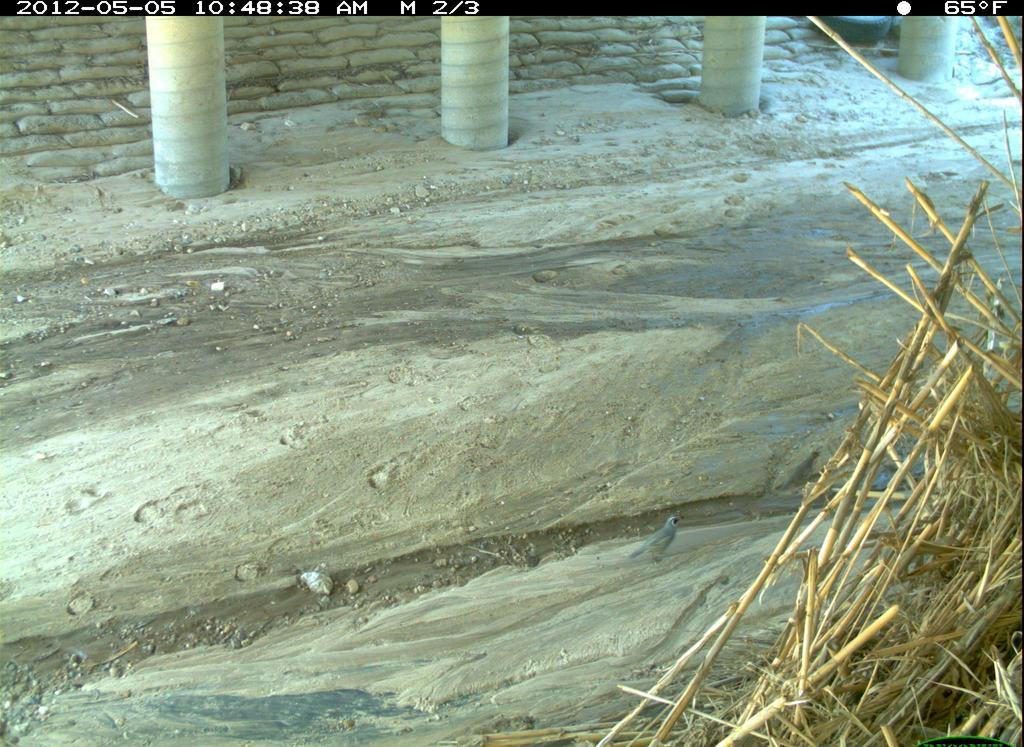bird: (629, 516, 693, 574)
